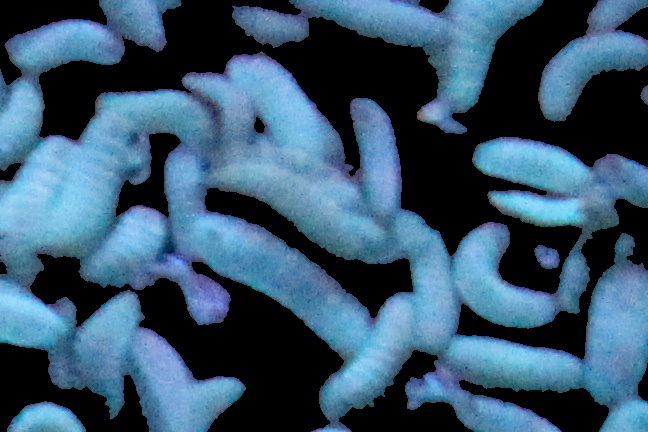larvae: (180, 220, 380, 356), (216, 160, 389, 263), (308, 291, 421, 420), (227, 51, 347, 163), (42, 110, 125, 262), (429, 1, 544, 108), (454, 219, 563, 327), (78, 284, 156, 414), (394, 209, 462, 357), (579, 258, 648, 403), (281, 1, 464, 52), (115, 321, 199, 432), (442, 334, 585, 398), (547, 32, 645, 122), (1, 134, 82, 241), (180, 66, 270, 159), (94, 91, 220, 156), (1, 14, 123, 78), (349, 91, 408, 220), (470, 135, 599, 192), (442, 382, 575, 432), (1, 270, 75, 346), (83, 212, 161, 284), (484, 183, 599, 229), (230, 4, 332, 52), (94, 1, 175, 55), (1, 74, 46, 169), (187, 367, 249, 432), (591, 144, 648, 213), (6, 400, 89, 432), (577, 2, 648, 39)
